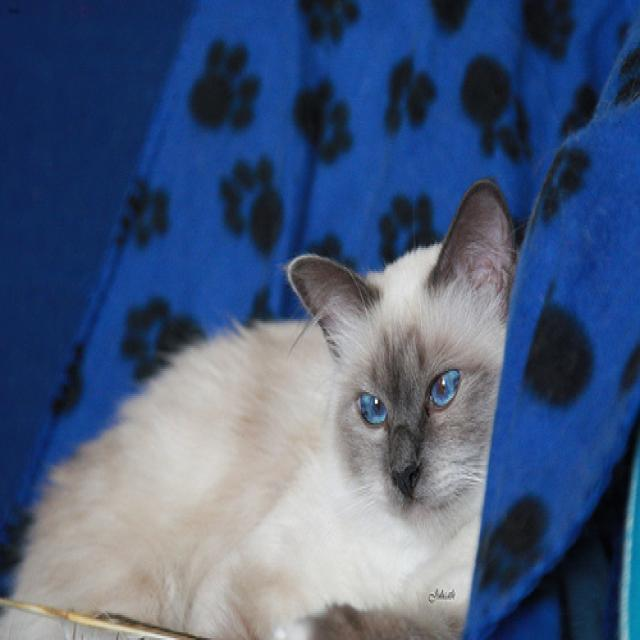Birman: (286, 177, 515, 536)
